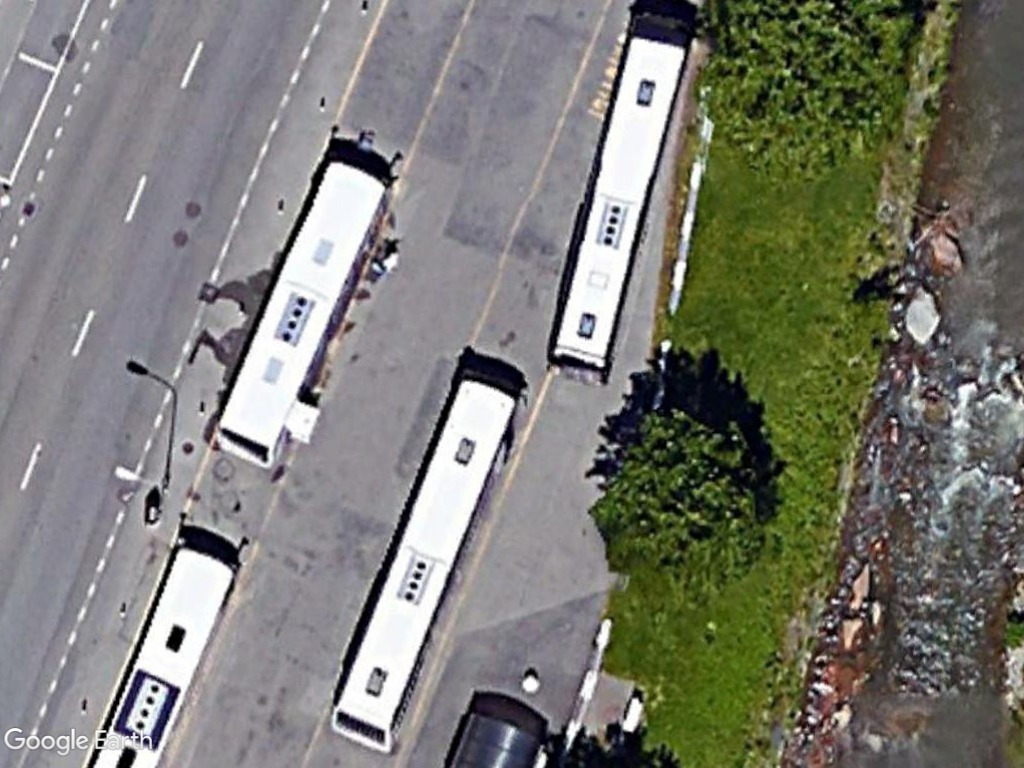bus: (323, 366, 530, 760), (210, 145, 394, 473), (536, 22, 703, 381)
